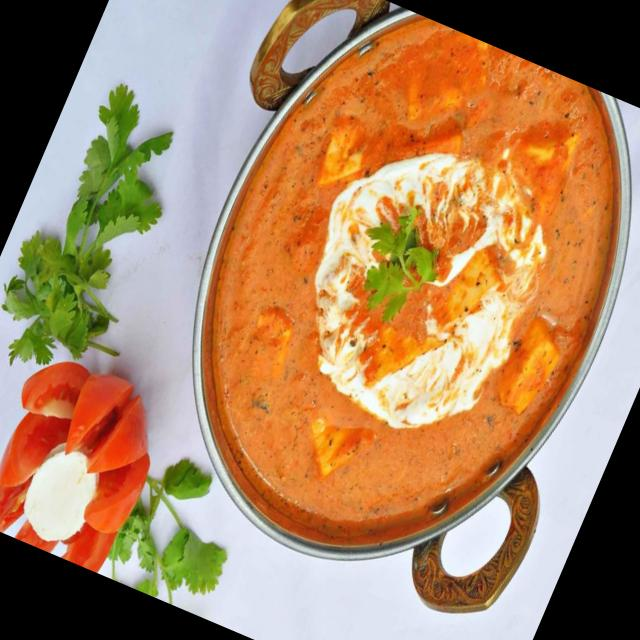ShahiPaneer: (131, 0, 640, 605)
